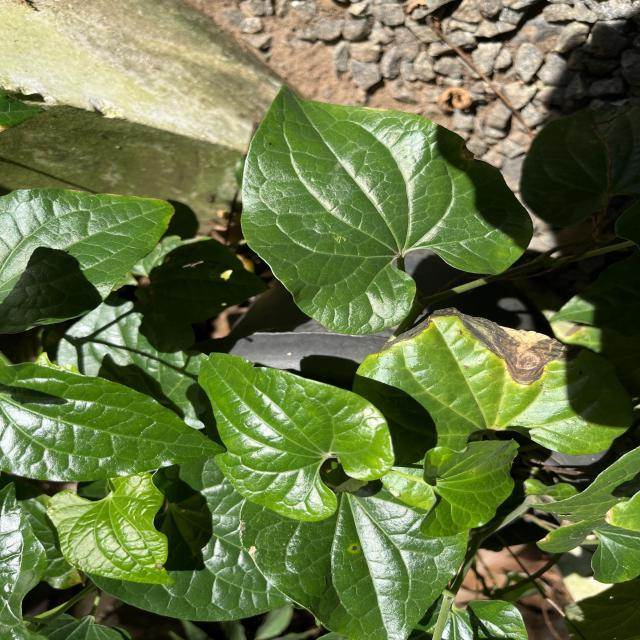Piper longum: (236, 82, 538, 338), (192, 349, 397, 524), (0, 360, 230, 484), (40, 470, 178, 589), (415, 436, 522, 540)
